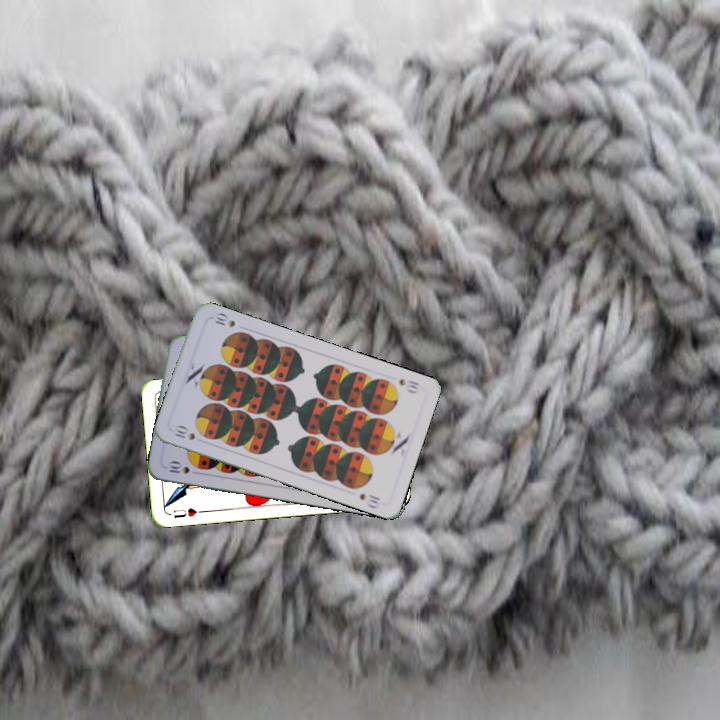HU: (170, 504, 206, 521)
S10: (162, 458, 202, 477), (395, 374, 422, 396), (171, 422, 198, 443)
